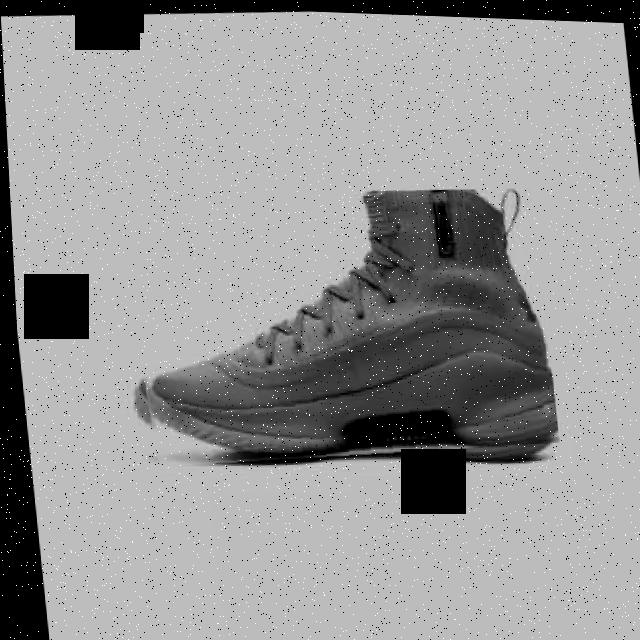shoe: (110, 172, 558, 479)
